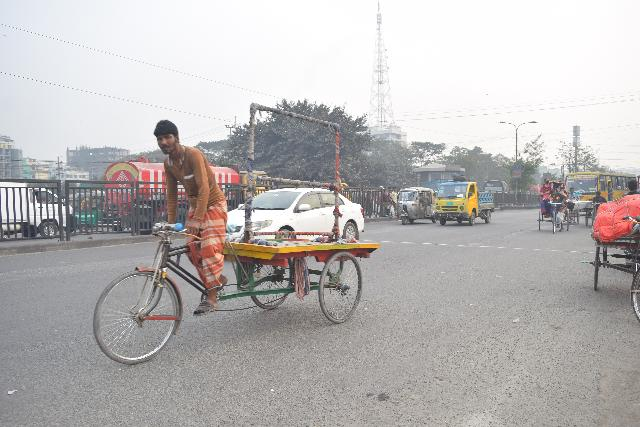bus: (563, 164, 627, 211)
car: (226, 191, 369, 246)
truck: (98, 157, 240, 234), (432, 177, 506, 235)
